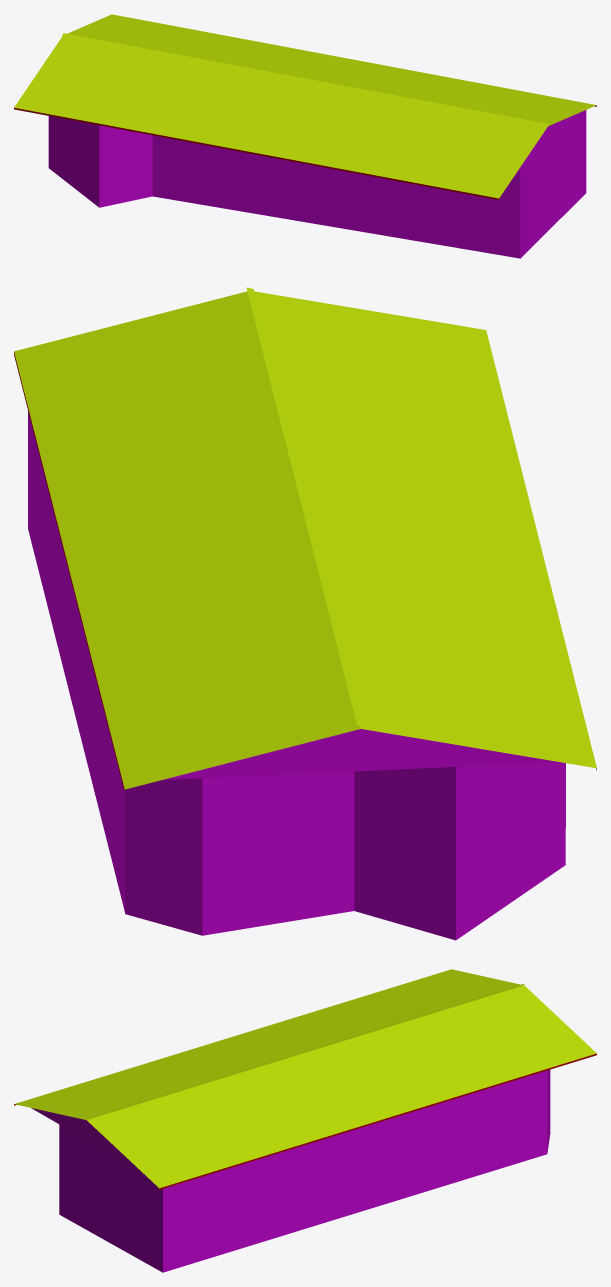
File: bgj_12.glb
3 views of the same model, one above another, from view 1: azimuth 30°, elevation 25°; view 2: azimuth 150°, elevation 25°; view 3: azimuth 270°, elevation 25° (orthographic). The views are drawn at different scales.
Parts seen in each view (by area): view 1: bgj_12; view 2: bgj_12; view 3: bgj_12.
Boxes of the visible parts, x1,y1,x2,y2 form: bgj_12: [14, 14, 596, 258]; bgj_12: [14, 287, 596, 940]; bgj_12: [14, 969, 596, 1272].
Bounding box in the file's own units: 32.39 × 8.04 × 36.43.
